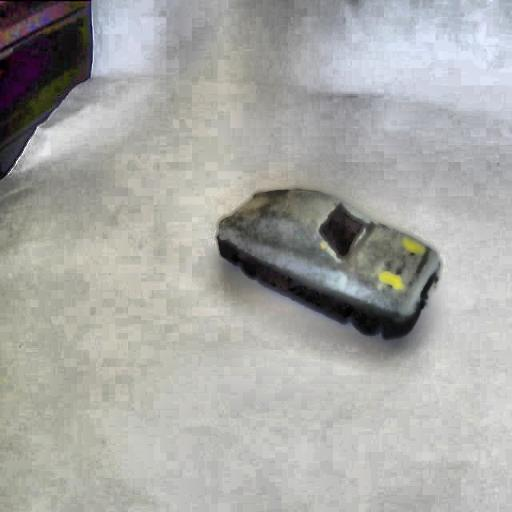normal_car: (206, 173, 448, 344)
